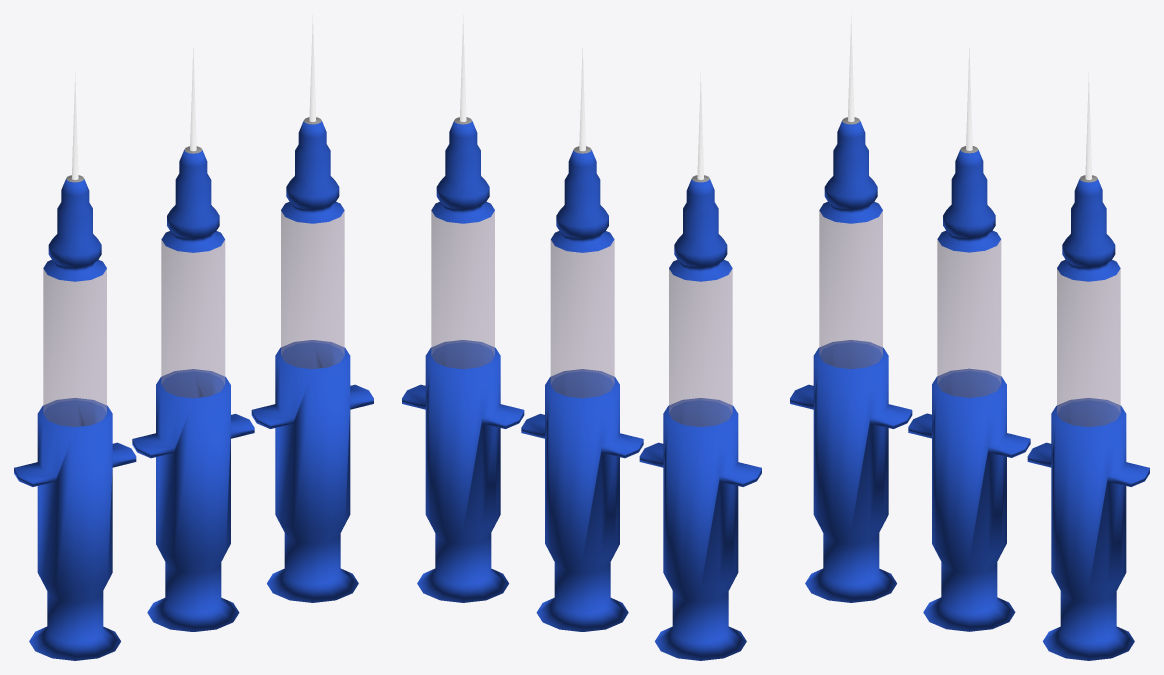
The model's file is needles3.FBX.
The picture shows the model from 3 angles, left to right: view 1: azimuth 30°, elevation 25°; view 2: azimuth 150°, elevation 25°; view 3: azimuth 330°, elevation 25°; orthographic projection.
Visible parts, largest first — view 1: Cylinder002, Cylinder003, Cylinder001; view 2: Cylinder002, Cylinder003, Cylinder001; view 3: Cylinder002, Cylinder001, Cylinder003.
Part boxes in pixels (x1,y1,x2,y2): Cylinder002: [132, 47, 254, 631]; Cylinder003: [251, 15, 373, 602]; Cylinder001: [14, 73, 136, 660]; Cylinder002: [521, 47, 643, 631]; Cylinder003: [402, 15, 524, 602]; Cylinder001: [639, 73, 761, 660]; Cylinder002: [908, 47, 1030, 631]; Cylinder001: [790, 15, 912, 602]; Cylinder003: [1027, 73, 1149, 660].
Size of the model in its own units: 28.16 by 43.81 by 6.44.
